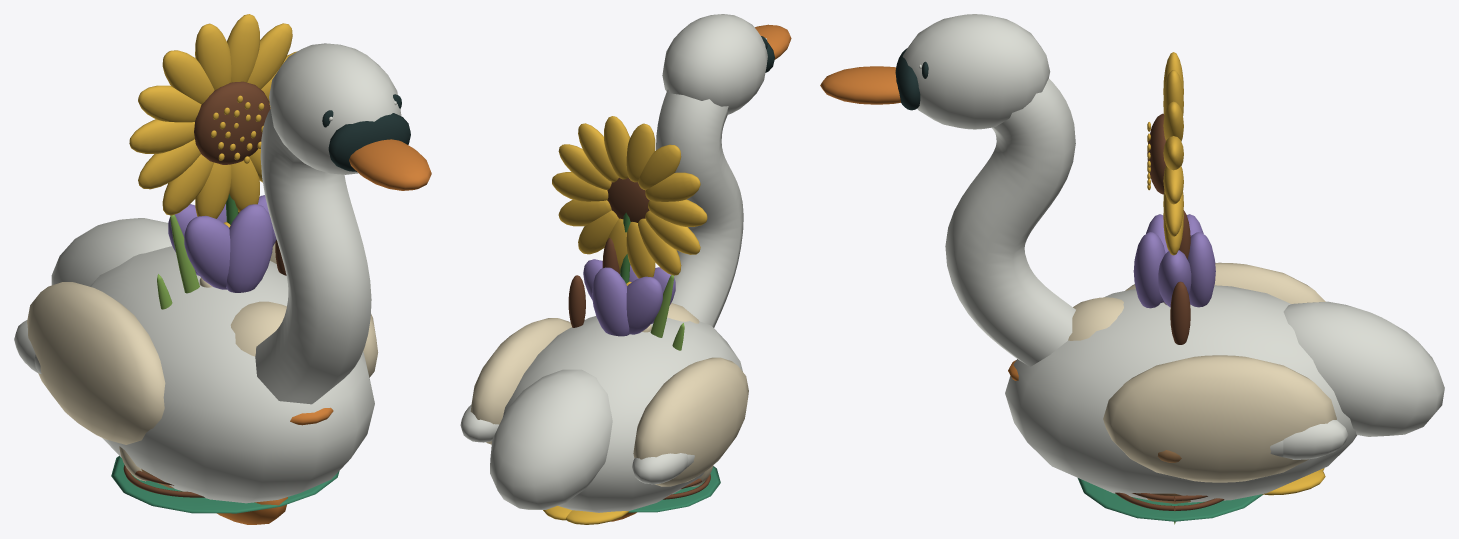
Rendered from garden-pond.glb.
3 renders of one model, left to right at view 1: azimuth 30°, elevation 25°; view 2: azimuth 150°, elevation 25°; view 3: azimuth 270°, elevation 25°, orthographic. The views are drawn at different scales.
Visible parts, largest first — view 1: SwanMesh, SwanHeadMesh, SunflowerMesh, SwanWingLMesh, IrisMesh, LilyMesh, DuckHeadMesh, ReedsMesh, FishMesh, BasketMesh, SwanWingRMesh; view 2: SwanMesh, SwanHeadMesh, SunflowerMesh, SwanWingLMesh, SwanWingRMesh, IrisMesh, ReedsMesh, LilyMesh, FishTailMesh, DuckHeadMesh; view 3: SwanMesh, SwanHeadMesh, SwanWingRMesh, IrisMesh, SunflowerMesh, SwanWingLMesh, LilyMesh, DuckHeadMesh, ReedsMesh, BasketMesh.
Part boxes in pixels (box(x1,y1,x2,y2)): SwanMesh: box(51, 218, 374, 503); SwanHeadMesh: box(255, 43, 431, 404); SunflowerMesh: box(129, 14, 297, 224); SwanWingLMesh: box(14, 282, 165, 444); IrisMesh: box(168, 195, 276, 292); LilyMesh: box(111, 456, 339, 513); DuckHeadMesh: box(230, 301, 333, 425); ReedsMesh: box(157, 212, 286, 309); FishMesh: box(217, 497, 287, 524); BasketMesh: box(123, 465, 204, 497); SwanWingRMesh: box(270, 243, 378, 377); SwanMesh: box(490, 316, 742, 512); SwanHeadMesh: box(656, 14, 791, 327); SunflowerMesh: box(552, 116, 707, 283); SwanWingLMesh: box(632, 357, 748, 486); SwanWingRMesh: box(460, 318, 571, 444); IrisMesh: box(583, 259, 675, 336); ReedsMesh: box(568, 238, 684, 350); LilyMesh: box(628, 466, 720, 512); FishTailMesh: box(543, 505, 628, 524); DuckHeadMesh: box(667, 303, 699, 323); SwanMesh: box(1005, 285, 1444, 502); SwanHeadMesh: box(820, 14, 1075, 366); SwanWingRMesh: box(1103, 355, 1348, 482); IrisMesh: box(1133, 214, 1215, 308); SunflowerMesh: box(1147, 52, 1183, 255); SwanWingLMesh: box(1125, 262, 1325, 303); LilyMesh: box(1077, 478, 1262, 521); DuckHeadMesh: box(1008, 297, 1123, 380); ReedsMesh: box(1170, 210, 1190, 524); BasketMesh: box(1115, 492, 1224, 510).
Size of the model in its own units: 1.3 by 2.4 by 2.73.
